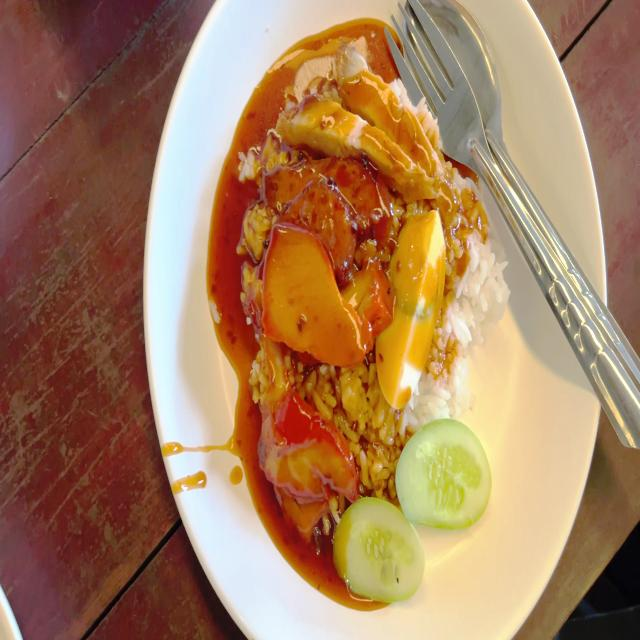boiled_egg: (380, 214, 444, 407)
chainese_sausage: (271, 150, 385, 258)
crispy_pork: (286, 41, 449, 197)
cucumber: (402, 418, 487, 532), (338, 501, 425, 593)
red_pork: (265, 227, 384, 361), (258, 382, 356, 532)
red_pork_and_crispy_pork: (242, 37, 516, 610)
